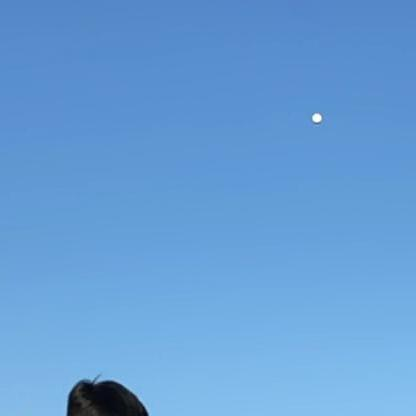golfball: (308, 108, 322, 122)
